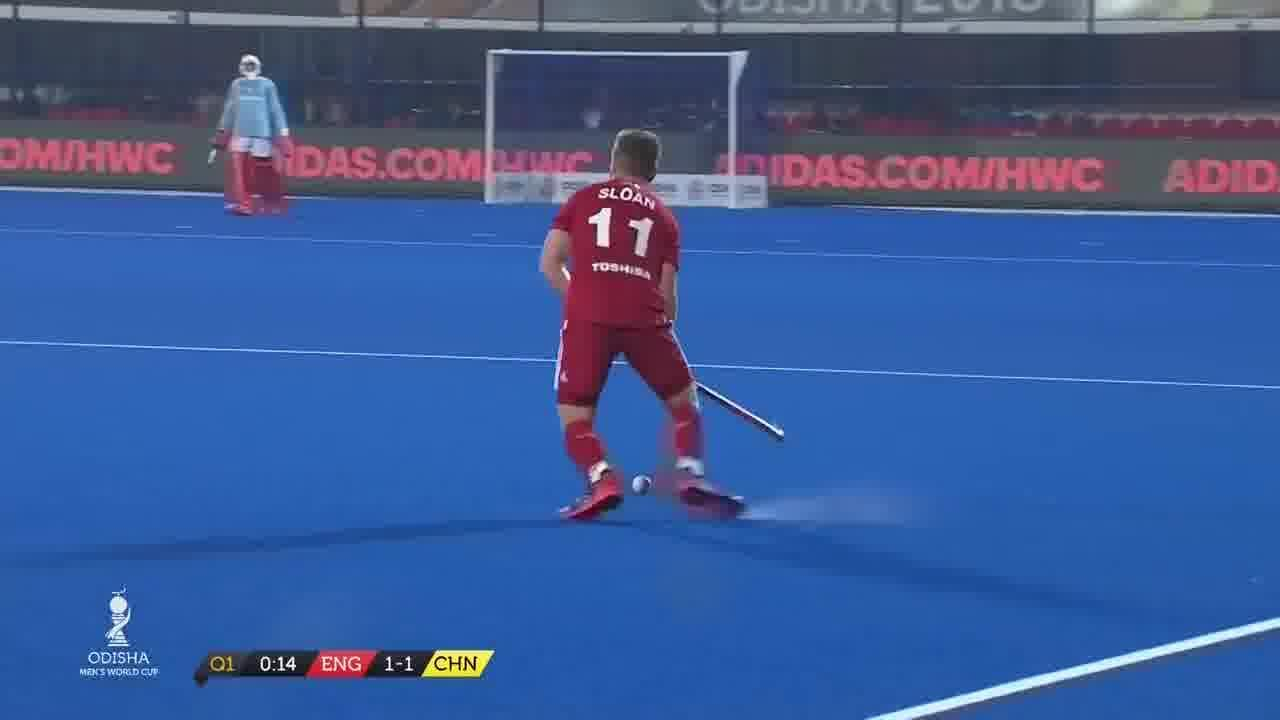ball: (620, 452, 660, 509)
